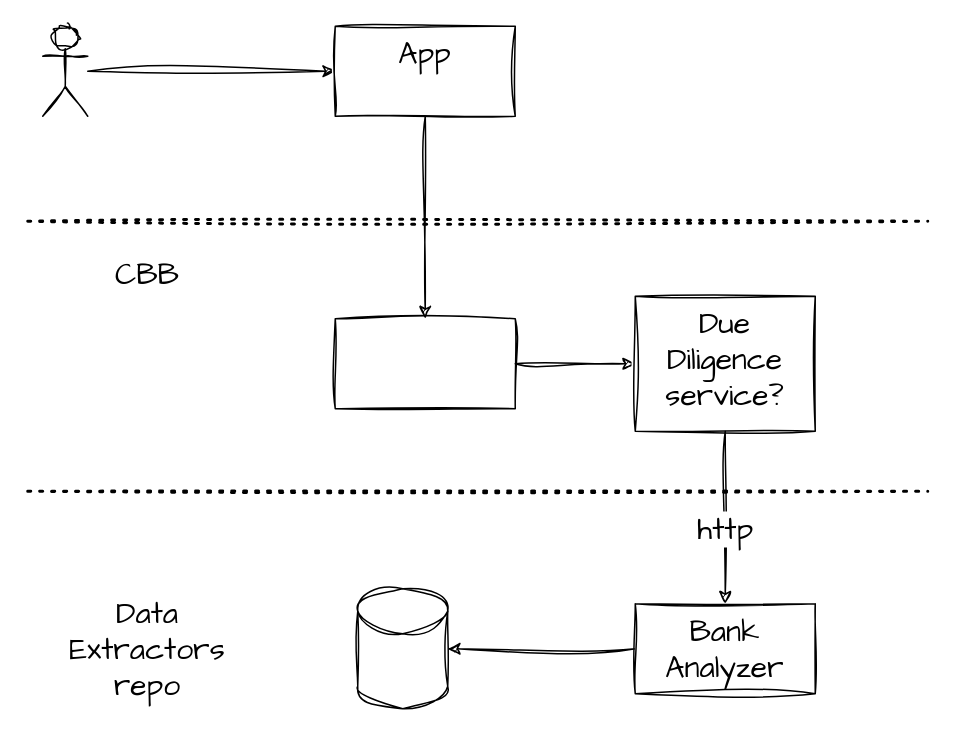
Some shapes in this 956 by 735 pixel diagram are drawn without their labels. The box of each missing label's shape, as (x1, y1, x2, y2) in pixels:
Activation setup API: (334, 317, 515, 409)
Bank Data: (356, 587, 448, 709)
